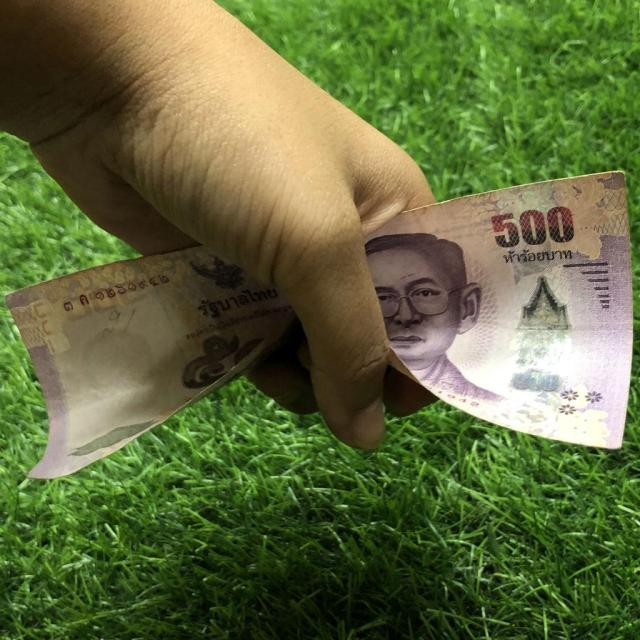THAI500: (364, 171, 632, 448), (7, 246, 316, 479)
